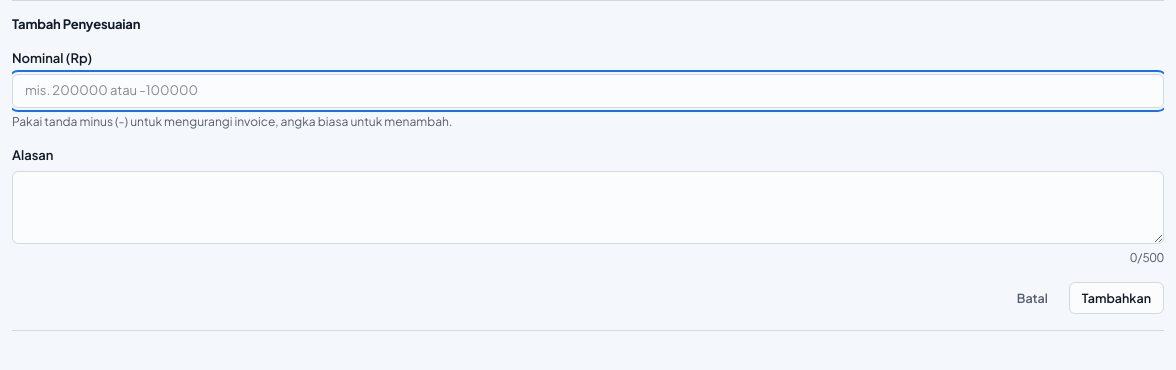
Test: AdjustmentForm › says below each field what was left empty, and sends nothing
The image size is (1176, 370).
Click the button "Tambahkan".
click(1116, 298)  # box [1069,282,1164,314]
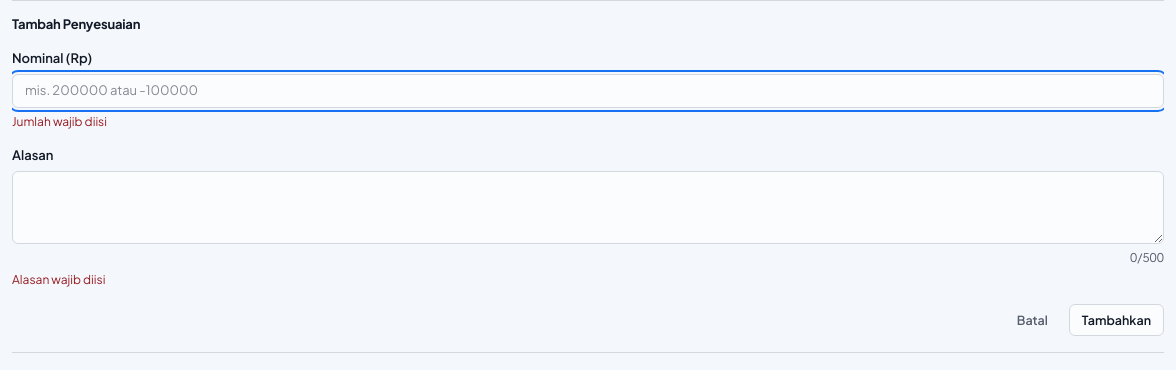
Now the text "Jumlah wajib diisi" is shown, box [12,114,107,129]
Now the text "Alasan wajib diisi" is shown, box [12,272,105,287]
